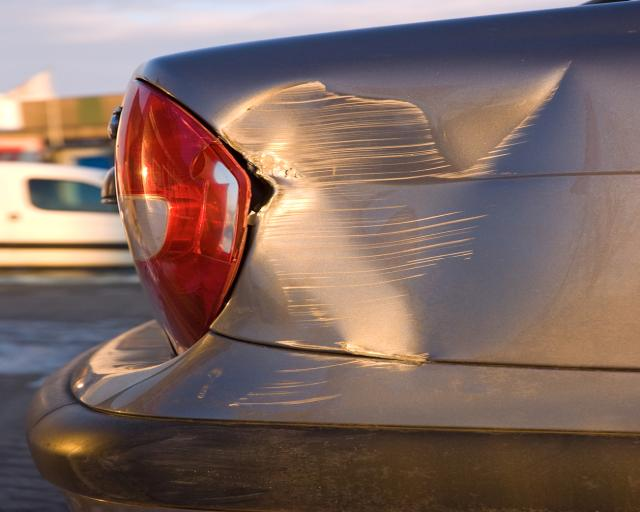dent: (216, 62, 602, 363)
lamp broken: (115, 80, 256, 359)
scratch: (229, 353, 423, 407), (277, 289, 358, 352)
